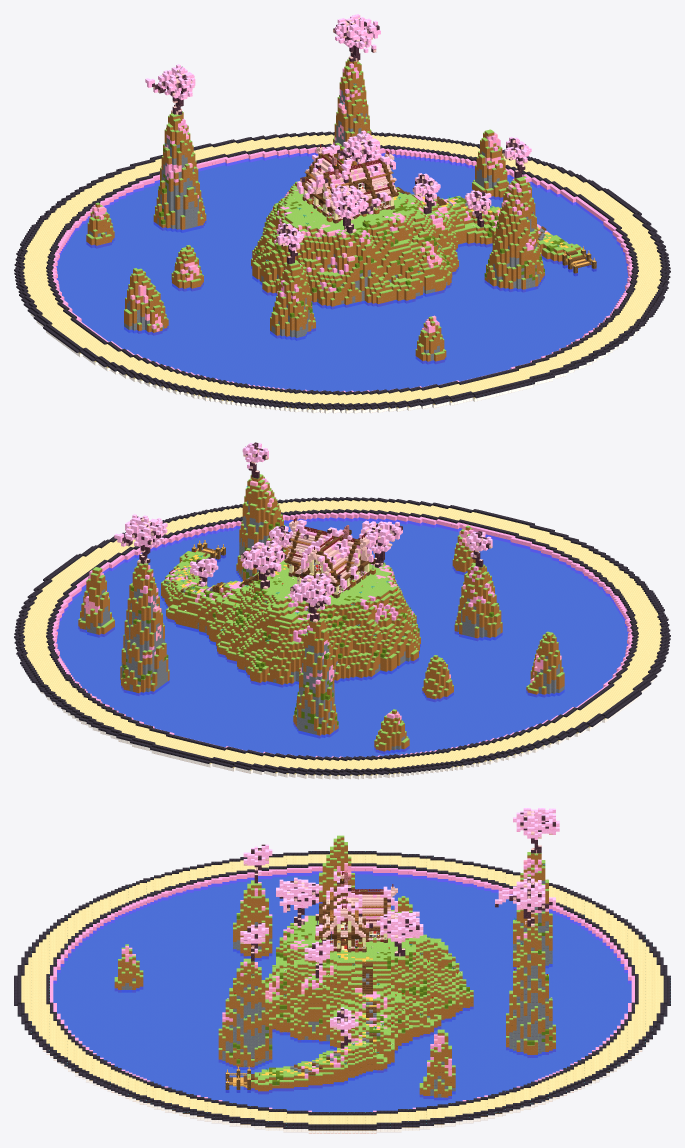
The picture shows the model from 3 angles, top to bottom: view 1: azimuth 30°, elevation 25°; view 2: azimuth 150°, elevation 25°; view 3: azimuth 270°, elevation 25°; orthographic projection.
Visible parts, largest first — view 1: Object_31, Object_53, Object_44, Object_24, Object_20, Object_32, Object_18, Object_37, Object_55, Object_66, Object_38, Object_5 (+1 smaller); view 2: Object_31, Object_53, Object_44, Object_24, Object_20, Object_32, Object_18, Object_37, Object_55, Object_66, Object_38, Object_5 (+2 smaller); view 3: Object_31, Object_53, Object_44, Object_20, Object_24, Object_32, Object_18, Object_37, Object_55, Object_66, Object_5, Object_38 (+4 smaller).
Part boxes in pixels (x1,y1,x2,y2): Object_31: (57,57,627,391); Object_53: (56,152,628,391); Object_44: (22,134,662,410); Object_24: (86,63,567,363); Object_20: (14,131,670,410); Object_32: (220,160,534,372); Object_18: (51,63,633,392); Object_37: (145,14,531,251); Object_55: (89,87,543,363); Object_66: (92,97,565,333); Object_38: (152,17,525,264); Object_5: (19,290,663,413); Object_31: (57,474,627,756); Object_53: (56,517,628,757); Object_44: (22,500,662,776); Object_24: (78,483,564,753); Object_20: (14,497,670,776); Object_32: (147,525,458,736); Object_18: (51,478,633,757); Object_37: (114,443,492,609); Object_55: (81,500,564,753); Object_66: (84,480,561,728); Object_38: (121,442,490,621); Object_5: (21,656,665,779); Object_31: (53,835,631,1111); Object_53: (53,871,631,1111); Object_44: (21,854,663,1130); Object_20: (14,851,670,1130); Object_24: (114,846,555,1099); Object_32: (57,936,627,1027); Object_18: (50,858,634,1111); Object_37: (240,808,559,1037); Object_55: (121,880,552,1099); Object_66: (125,860,552,1084); Object_5: (32,1039,652,1133); Object_38: (244,811,555,1048).
Bounding box in the file's own units: 3.1 × 0.9831 × 3.1.
Materials: 62 (62 with a texture image).
